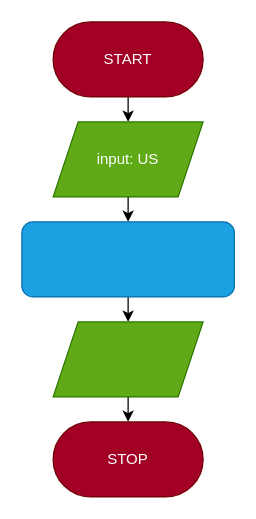
Some shapes in this 256 by 519 pixel diagram are drawn without their labels. Here are the shapes that lost their labels. From the top down, the centre of each, then its label:
point (127, 259): VN = US * 24
point (127, 359): ouput: VN
